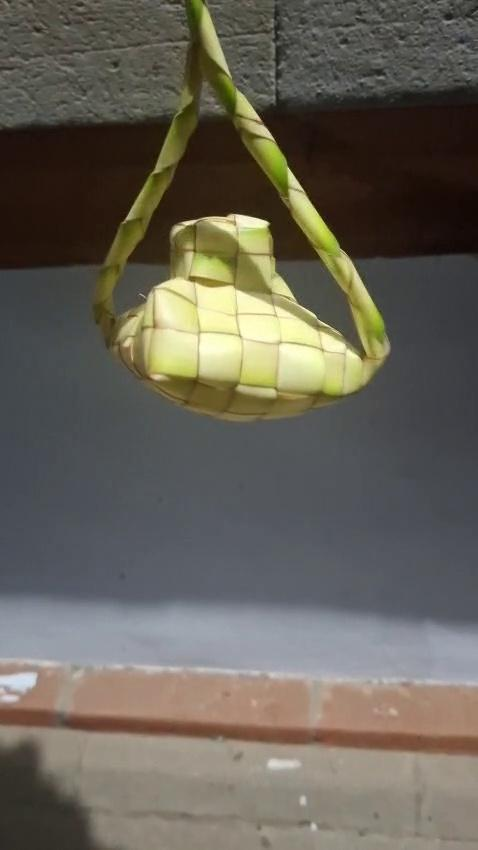Tipat Gong: (97, 0, 398, 424)
